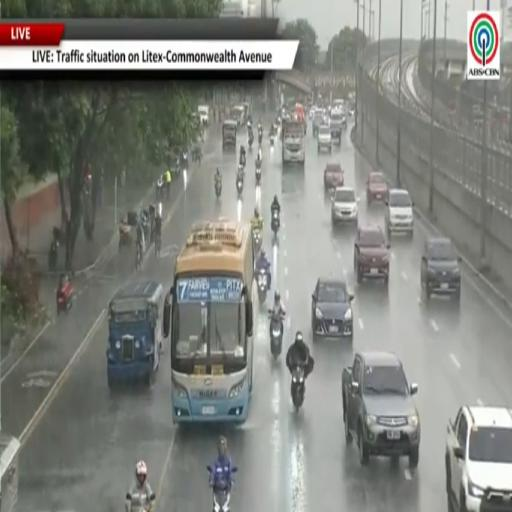bus: (164, 219, 255, 423)
car: (342, 351, 420, 468), (445, 405, 511, 511), (312, 278, 353, 342), (421, 237, 461, 302), (354, 226, 390, 285), (385, 189, 413, 237), (331, 187, 358, 223), (366, 171, 388, 203), (324, 163, 344, 190), (330, 109, 342, 145), (318, 125, 332, 153), (312, 109, 324, 136), (198, 105, 209, 125), (309, 105, 317, 120), (342, 111, 347, 130)
jeepney: (107, 281, 163, 387), (0, 431, 20, 511), (222, 120, 238, 148), (230, 105, 245, 126)
motorcycle: (268, 310, 283, 359), (291, 365, 305, 412), (57, 277, 74, 315), (213, 480, 230, 511), (126, 493, 155, 511), (258, 267, 268, 303), (48, 238, 59, 270), (271, 210, 279, 236), (156, 176, 164, 199), (253, 230, 261, 252), (236, 176, 243, 197), (215, 181, 221, 199), (256, 167, 261, 185), (248, 132, 253, 149), (240, 154, 246, 168), (259, 131, 263, 146), (270, 134, 274, 146)
tricycle: (57, 275, 74, 315), (119, 212, 137, 249)
truck: (282, 119, 305, 165), (330, 108, 343, 145)
